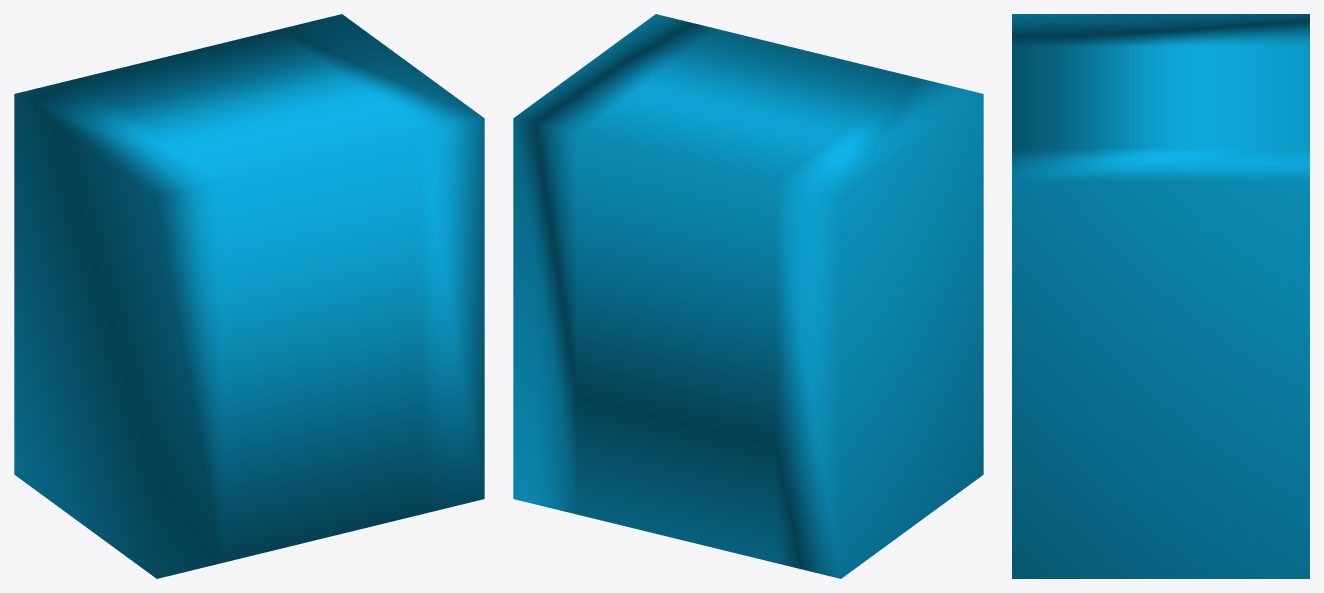
The model's file is Book_Multi_01.fbx.
3 renders of one model, left to right at view 1: azimuth 30°, elevation 25°; view 2: azimuth 150°, elevation 25°; view 3: azimuth 270°, elevation 25°, orthographic. The views are drawn at different scales.
Visible parts, largest first — view 1: Book_Multi_01; view 2: Book_Multi_01; view 3: Book_Multi_01.
Boxes of the visible parts, left/top/right/bottom form: Book_Multi_01: left=14, top=14, right=484, bottom=578; Book_Multi_01: left=513, top=14, right=983, bottom=578; Book_Multi_01: left=1012, top=14, right=1309, bottom=578.
Size of the model in its own units: 28.43 by 31.55 by 21.42.
